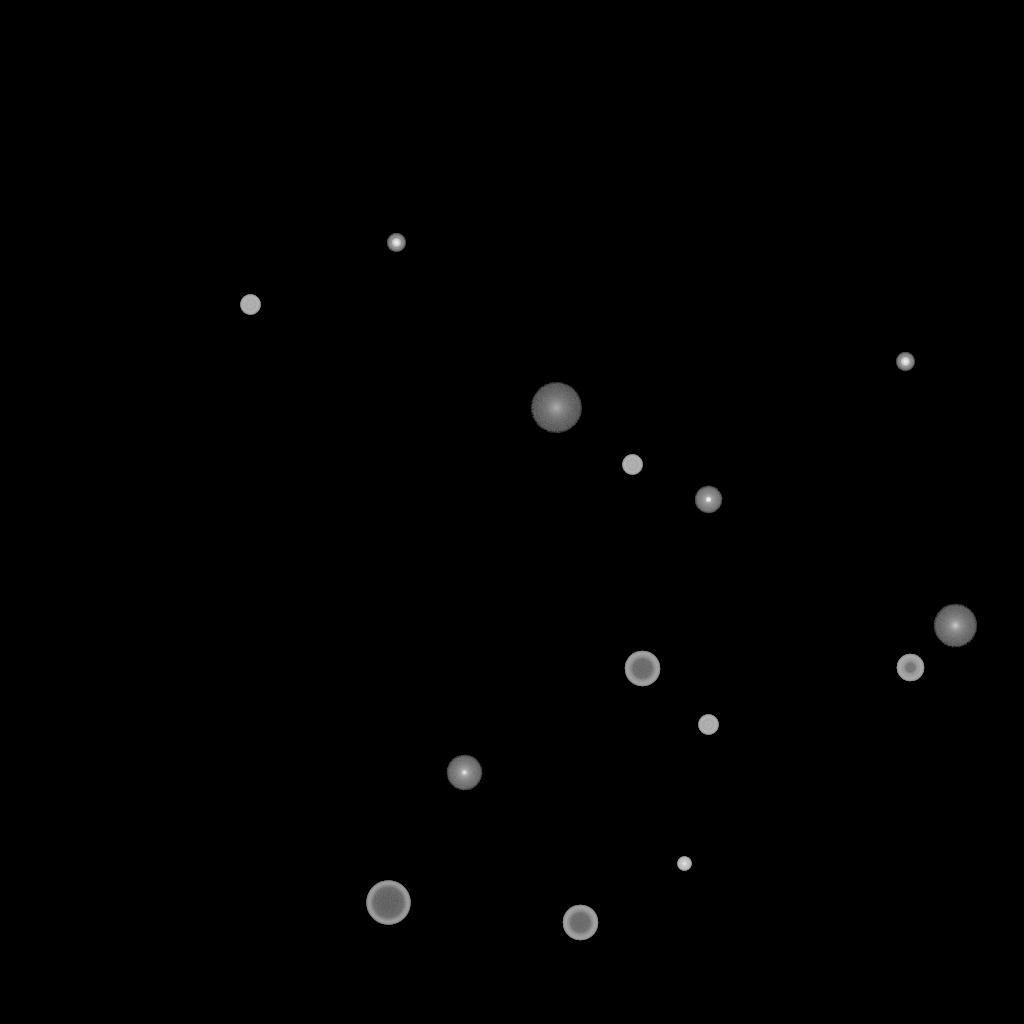depth:-10: (694, 486, 722, 514)
depth:-20: (896, 353, 914, 371), (387, 234, 405, 252)
depth:-30: (677, 857, 691, 871)
depth:-40: (240, 295, 260, 315), (622, 455, 642, 475), (698, 715, 718, 735)
depth:-50: (896, 654, 924, 682)
depth:-60: (624, 651, 660, 687), (562, 905, 598, 941)
depth:-70: (366, 881, 410, 925)
depth:0: (446, 755, 482, 791)
depth:10: (933, 604, 977, 648)
depth:20: (530, 383, 582, 433)
